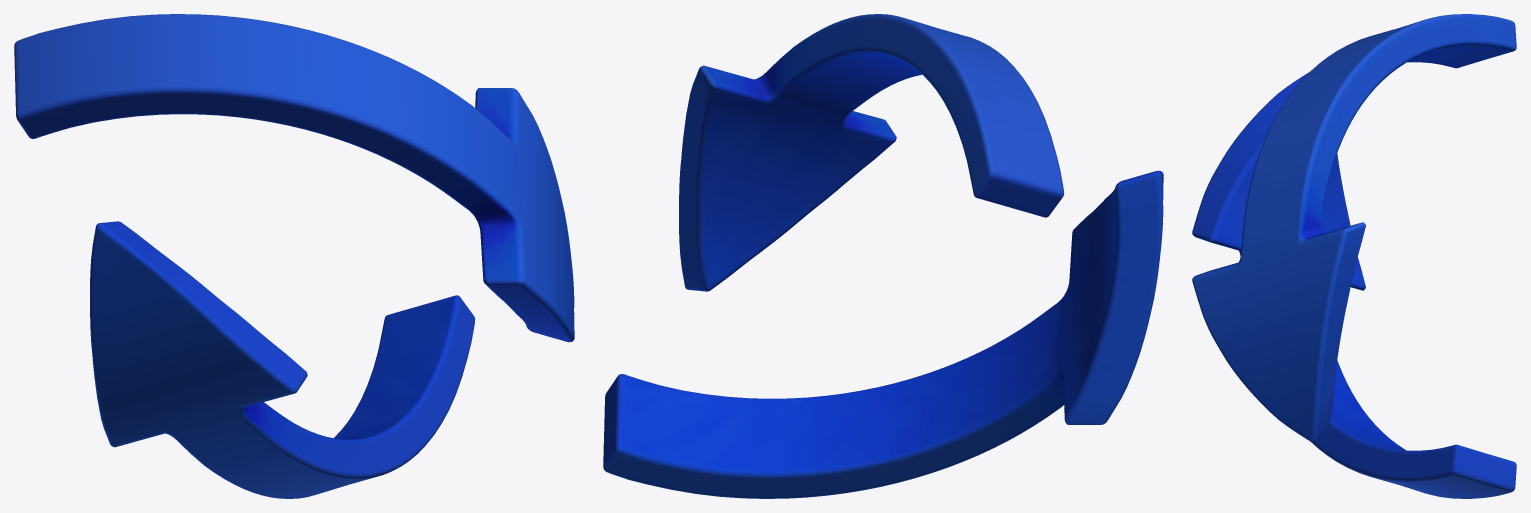
The model's file is Rotate Arrows.glb.
The picture shows the model from 3 angles, left to right: view 1: azimuth 30°, elevation 25°; view 2: azimuth 150°, elevation 25°; view 3: azimuth 270°, elevation 25°; orthographic projection. The views are drawn at different scales.
Parts seen in each view (by area): view 1: node_id53, node_id61; view 2: node_id61, node_id53; view 3: node_id53, node_id61.
Part boxes in pixels (x1=…): node_id53: x1=14, y1=14, x2=574, y2=342; node_id61: x1=90, y1=221, x2=475, y2=498; node_id61: x1=603, y1=170, x2=1163, y2=498; node_id53: x1=679, y1=14, x2=1064, y2=291; node_id53: x1=1192, y1=14, x2=1516, y2=442; node_id61: x1=1192, y1=72, x2=1516, y2=498.
Bounding box in the file's own units: 0.4453 × 0.4324 × 0.3218.
Materials: 1 (1 with a texture image).
